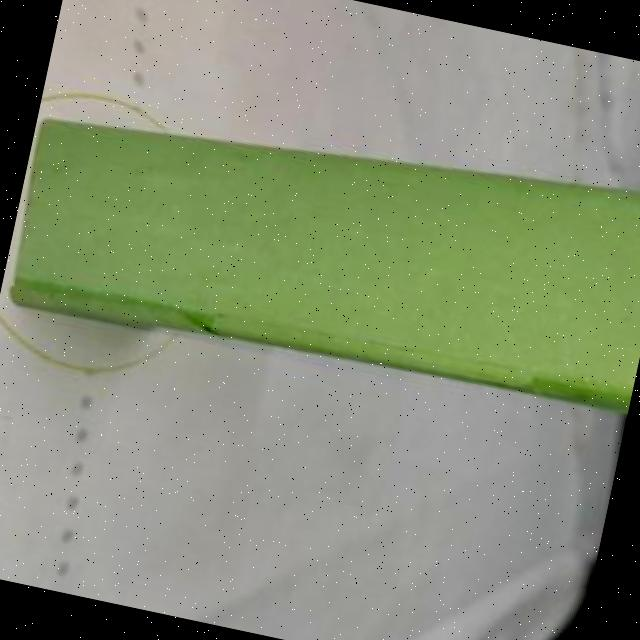greenbox: (0, 56, 640, 438)
